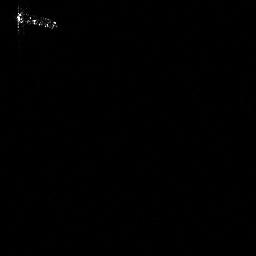ship: (17, 11, 57, 29)
